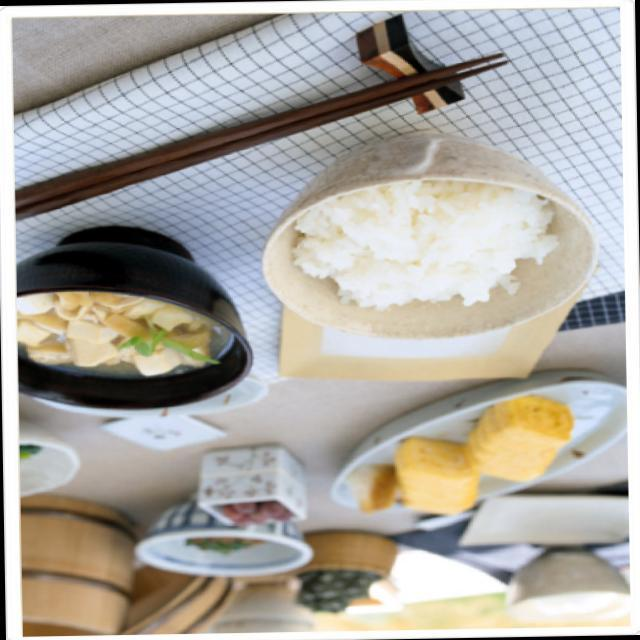Rice: (284, 180, 558, 317)
